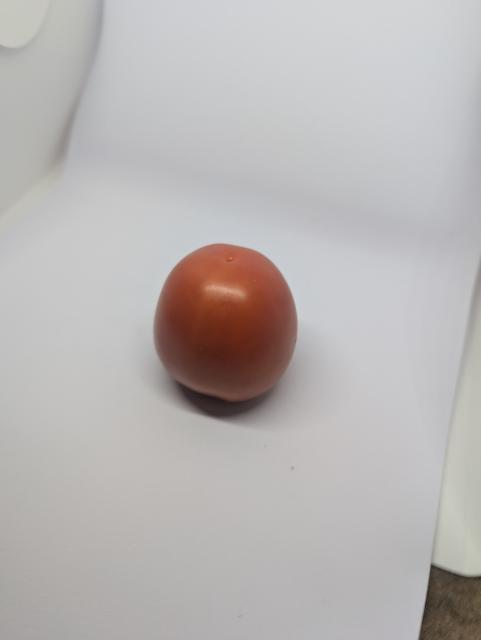red: (139, 221, 333, 427)
